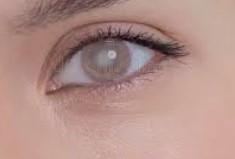eye: (83, 38, 134, 83)
